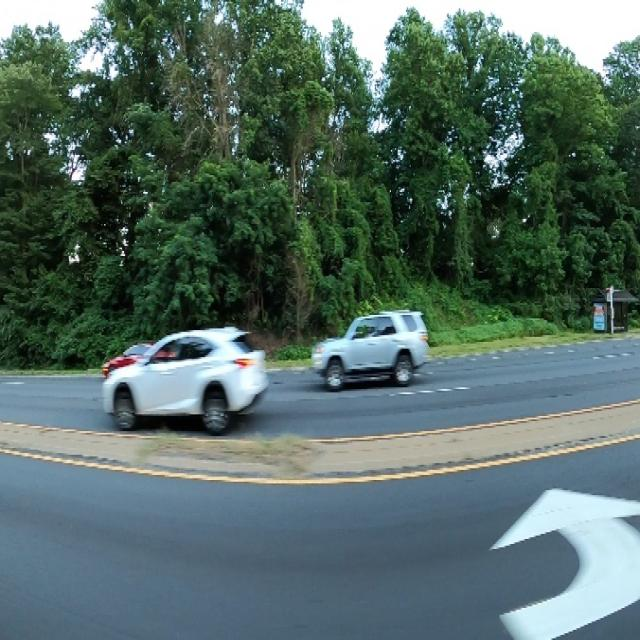car: (102, 313, 272, 450), (296, 300, 442, 392)
